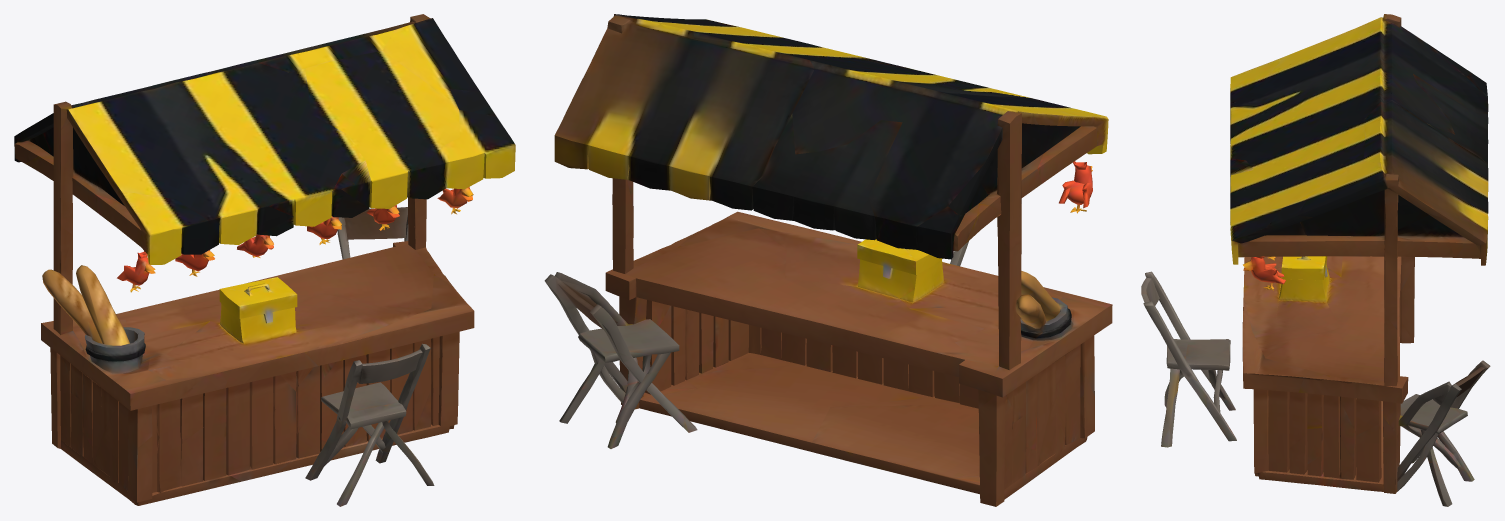
Rendered from stall_weapons.glb.
3 views of the same model, side by side, from view 1: azimuth 30°, elevation 25°; view 2: azimuth 150°, elevation 25°; view 3: azimuth 270°, elevation 25° (orthographic). The views are drawn at different scales.
Visible parts, largest first — view 1: model; view 2: model; view 3: model.
Boxes of the visible parts, box(x1,y1,x2,y2) form: model: box(14, 14, 515, 506); model: box(544, 14, 1112, 506); model: box(1141, 14, 1490, 506).
Bounding box in the file's own units: 1.9 × 1.56 × 1.54.
Materials: 1 (1 with a texture image).
